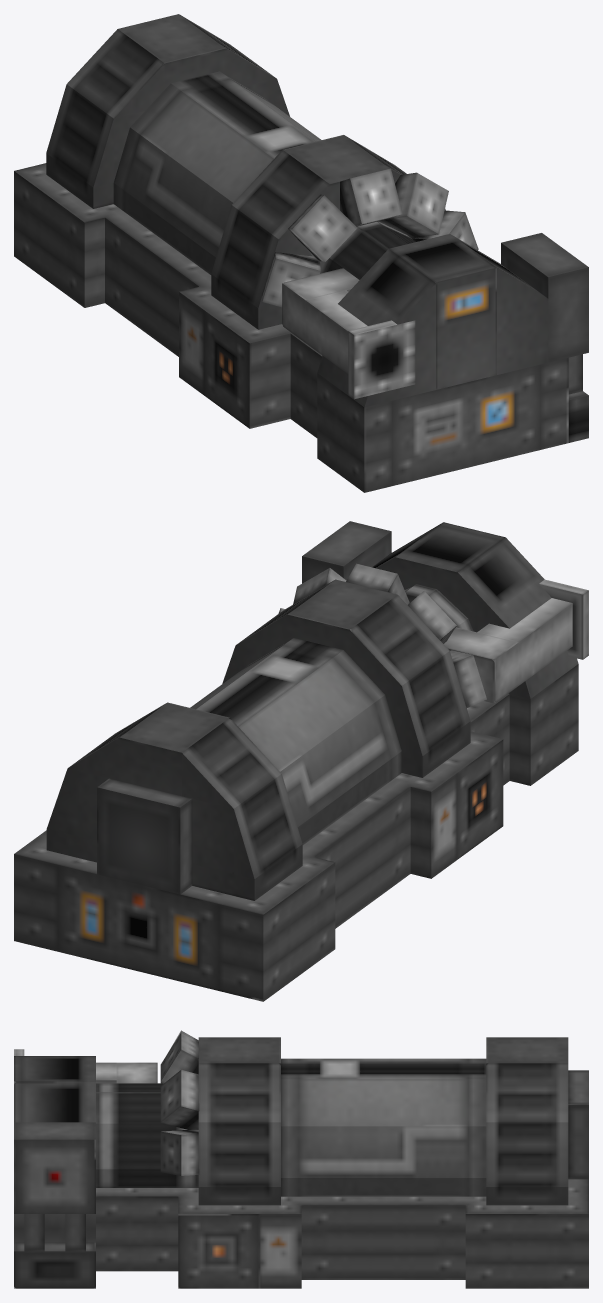
The model's file is gas_turbine.obj.
3 renders of one model, top to bottom at view 1: azimuth 30°, elevation 25°; view 2: azimuth 150°, elevation 25°; view 3: azimuth 270°, elevation 25°, orthographic. The views are drawn at different scales.
Visible parts, largest first — view 1: Cube.030_Cube.028; view 2: Cube.030_Cube.028; view 3: Cube.030_Cube.028.
Boxes of the visible parts, left/top/right/bottom form: Cube.030_Cube.028: left=14, top=14, right=588, bottom=492; Cube.030_Cube.028: left=14, top=521, right=588, bottom=1001; Cube.030_Cube.028: left=14, top=1030, right=588, bottom=1288.
Bounding box in the file's own units: 3 × 2.62 × 7.
